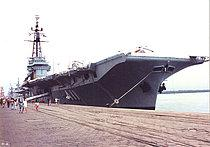MIL_Ship: (19, 16, 210, 107)
